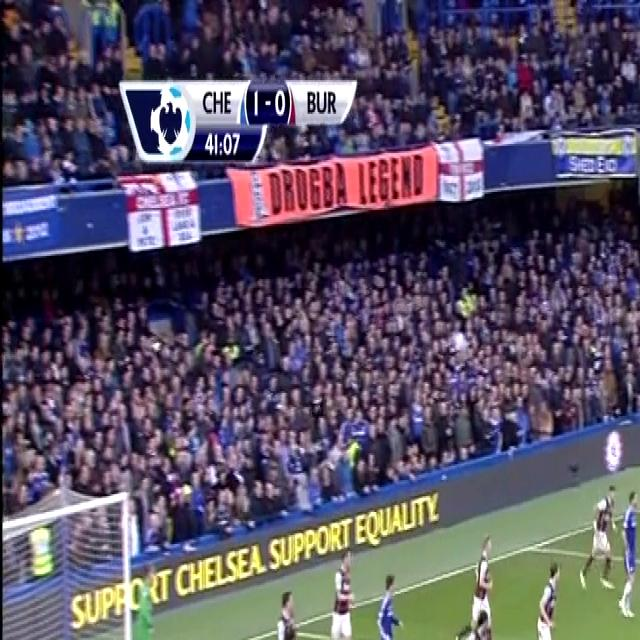goalkeeper: (129, 562, 163, 640)
soccer-player: (580, 483, 614, 612), (460, 519, 496, 640), (522, 549, 563, 640), (323, 544, 359, 640), (615, 482, 640, 618), (367, 560, 407, 640), (454, 608, 487, 640), (271, 627, 313, 640), (131, 636, 174, 640)
